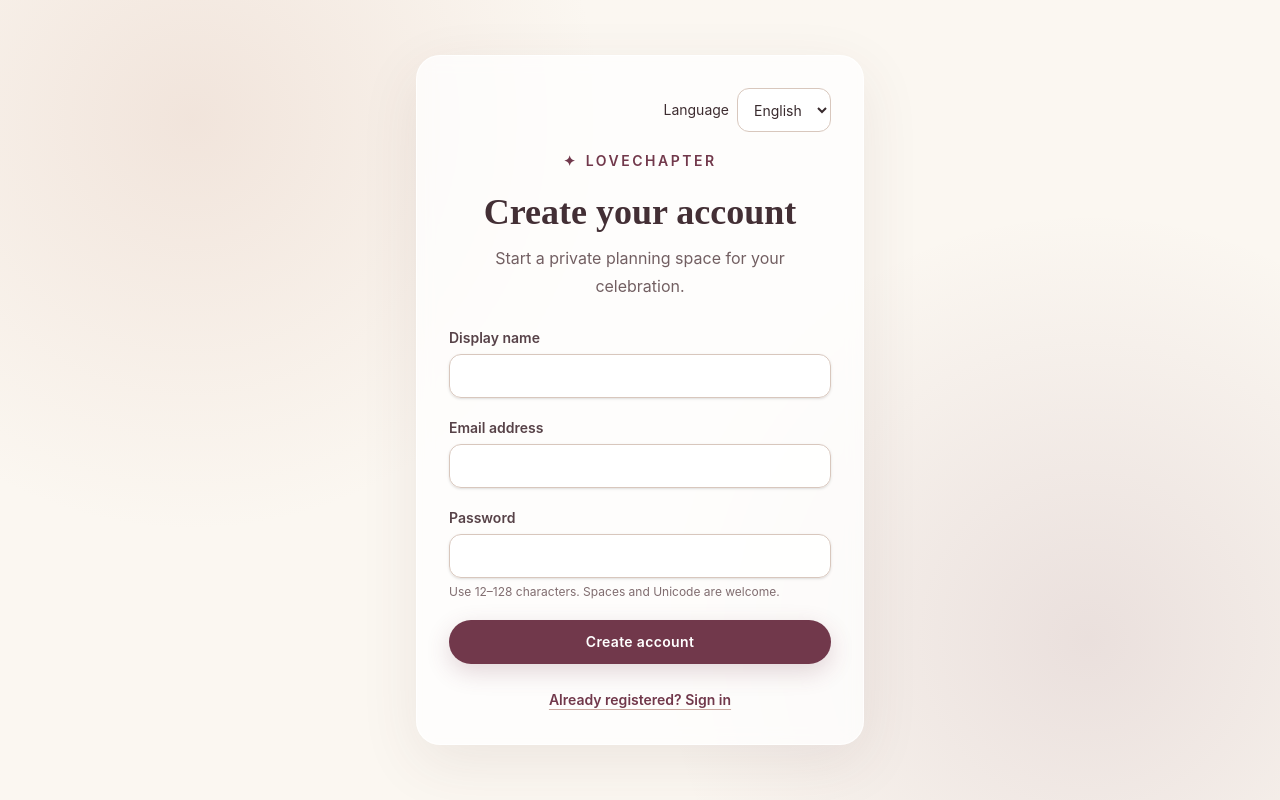
Test case: SignUpForm › is accessible and preserves email/password input exactly
The image size is (1280, 800).
Type "Mali & Arun" into the field labelled "Display name".
click(640, 376); type("Mali & Arun")  # box [449,354,831,398]
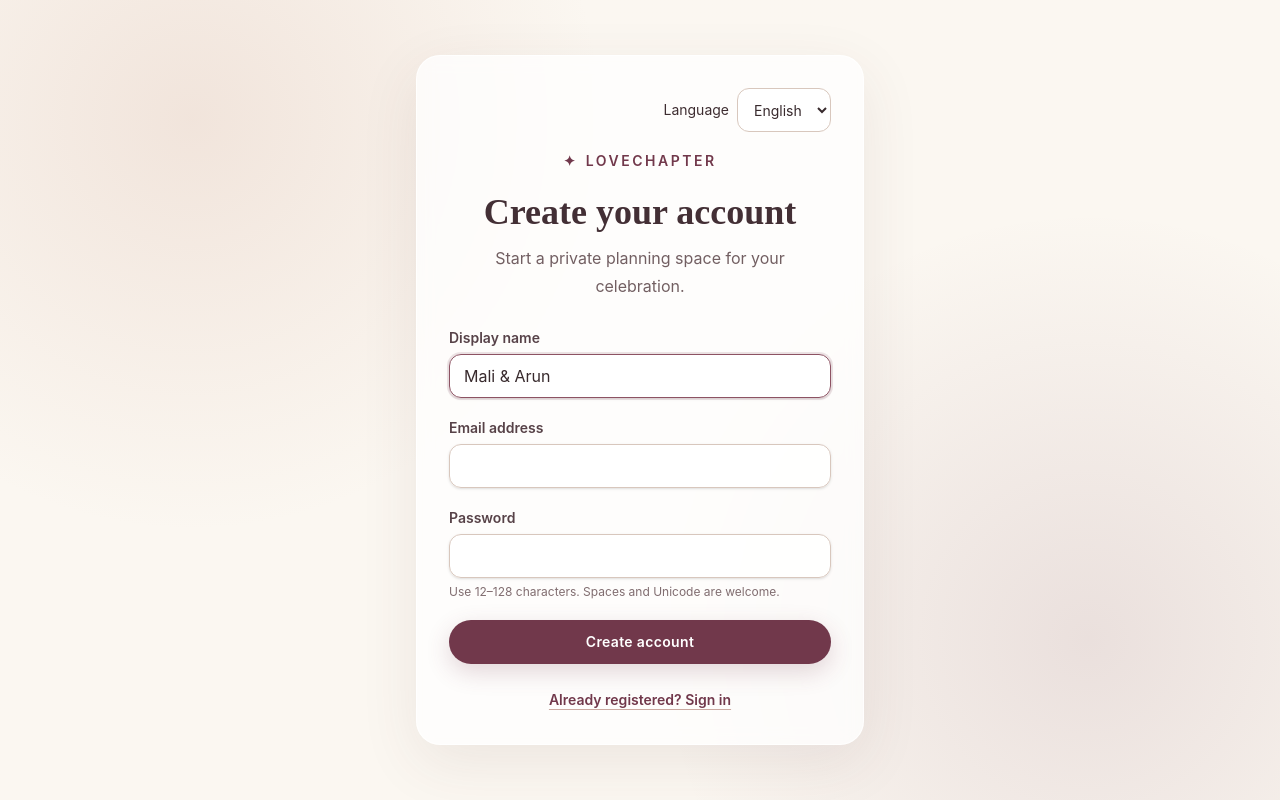
Type " Couple@Example.test " into the field labelled "Email address".
click(640, 466); type(" Couple@Example.test ")  # box [449,444,831,488]
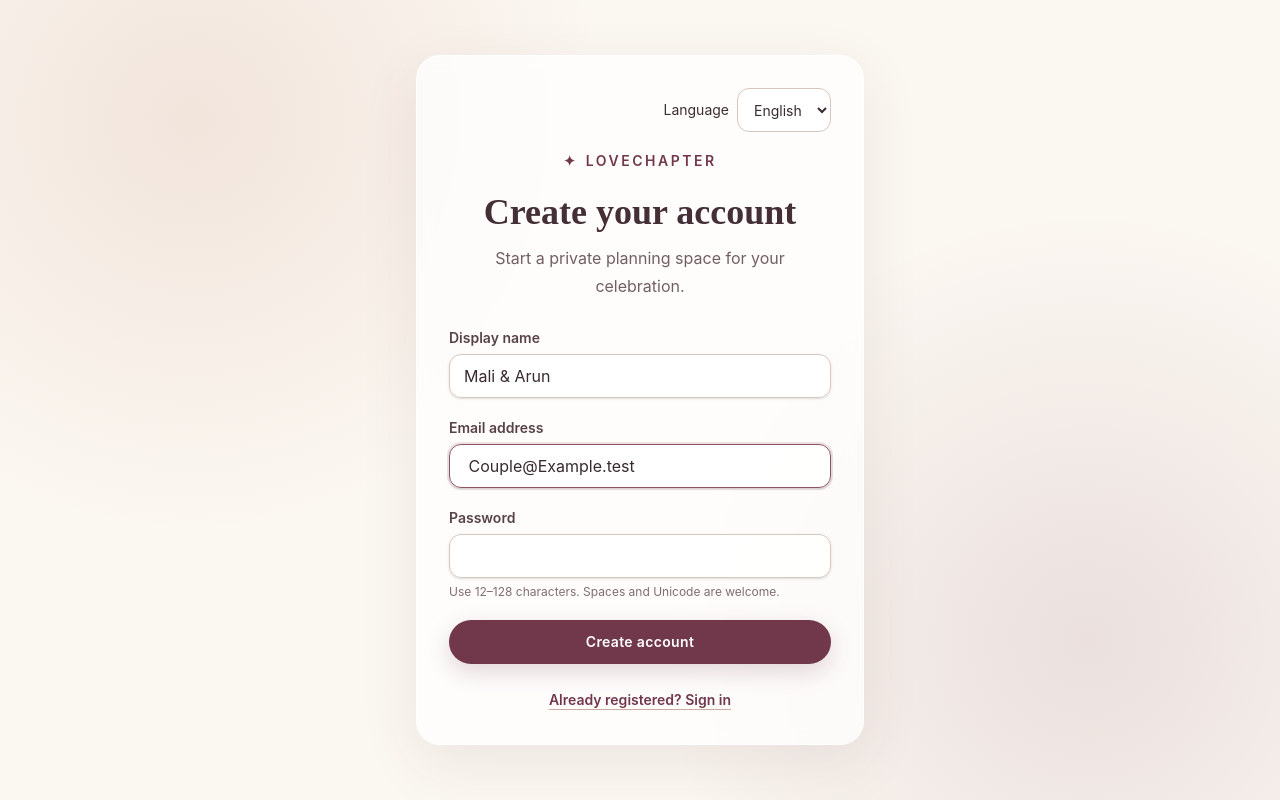
Type "  รักกันตลอดไป  " into the password field labelled "Password".
click(640, 556); type("  รักกันตลอดไป  ")  # box [449,534,831,578]
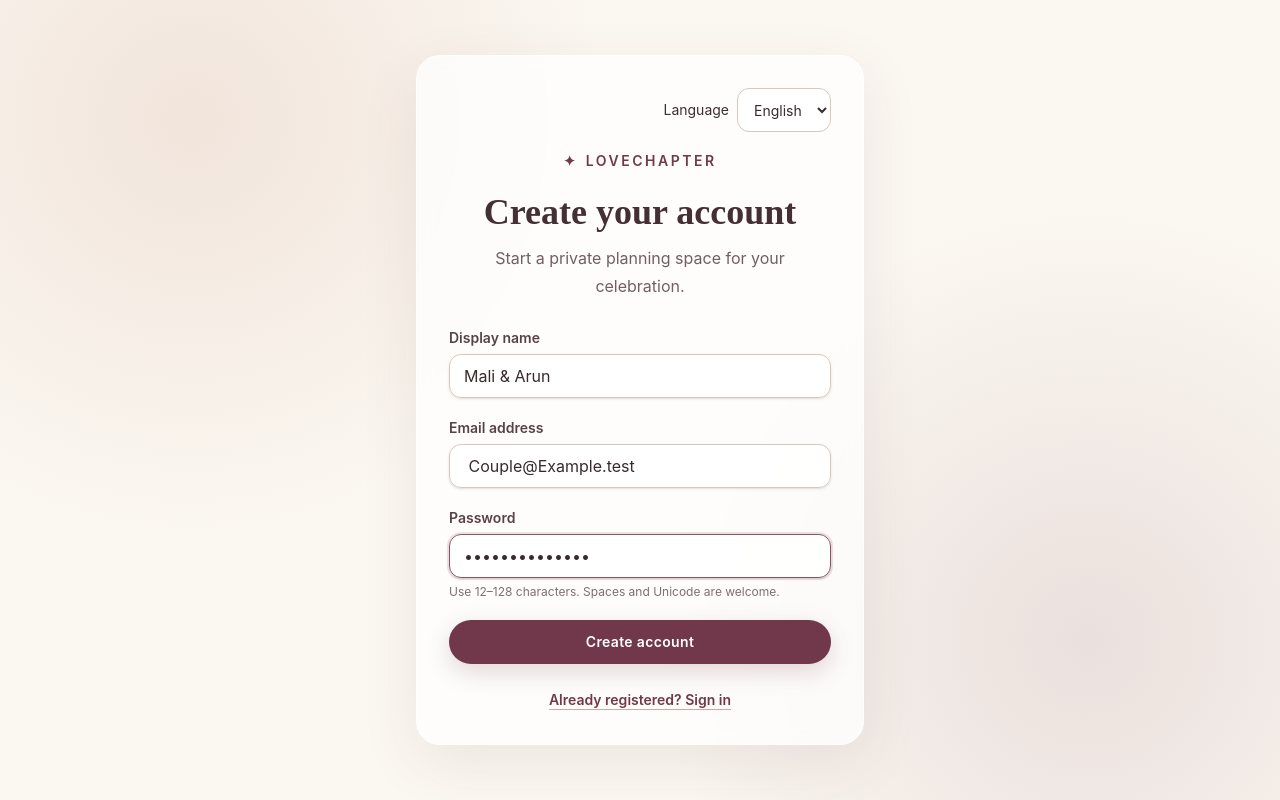
Click the button "Create account".
click(640, 642)  # box [449,620,831,664]
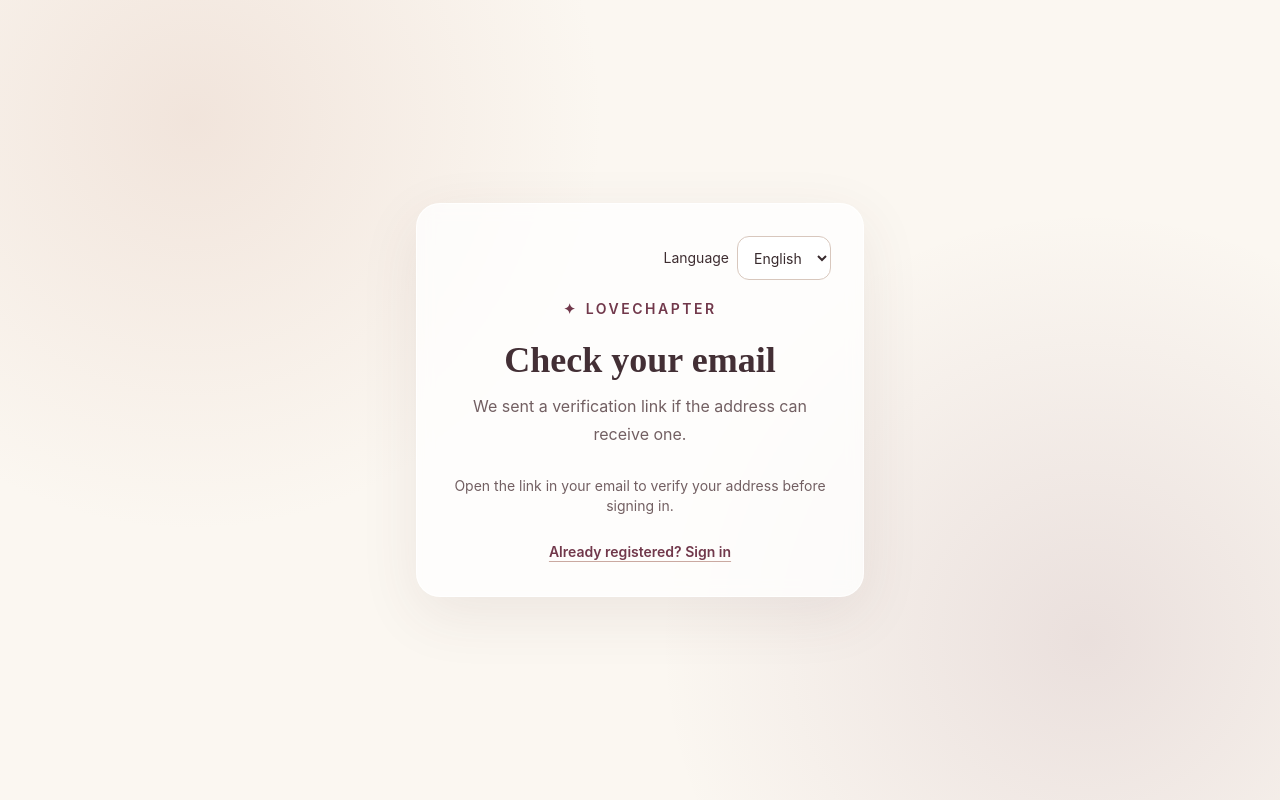
Expected: the heading "Check your email" is shown, [504,340,776,380]
